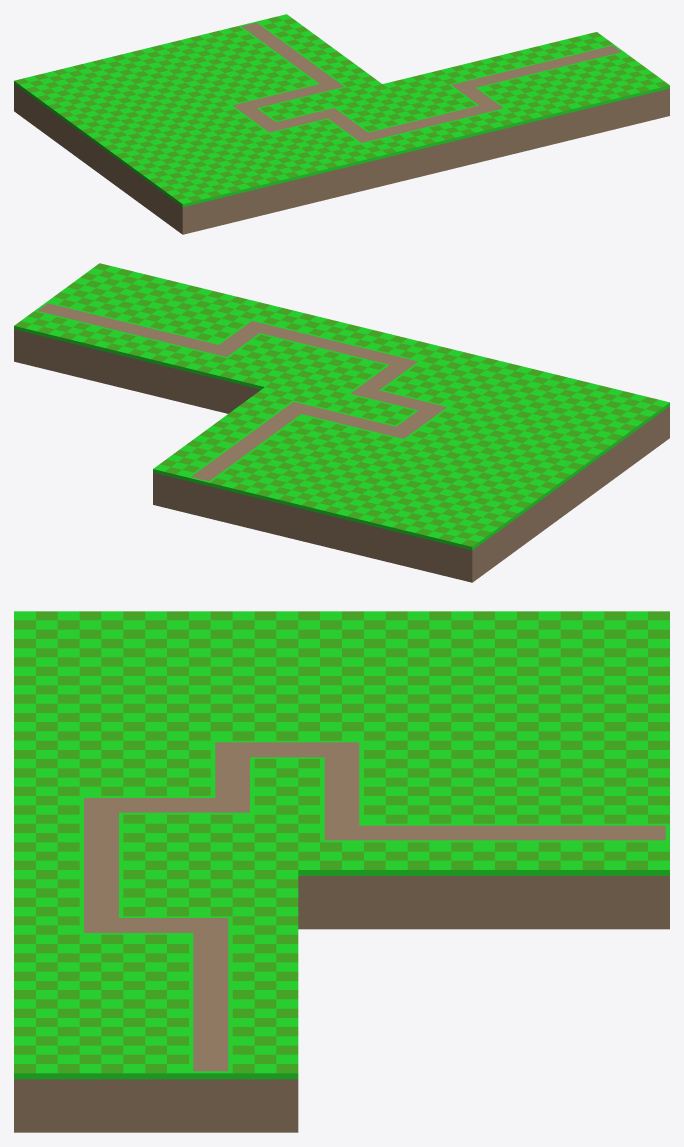
Rendered from Map 02 - 2.fbx.
The picture shows the model from 3 angles, top to bottom: view 1: azimuth 30°, elevation 25°; view 2: azimuth 150°, elevation 25°; view 3: azimuth 270°, elevation 25°; orthographic projection. The views are drawn at different scales.
Visible parts, largest first — view 1: Plane.014; view 2: Plane.014; view 3: Plane.014.
Boxes of the visible parts, x1,y1,x2,y2 form: Plane.014: [14, 14, 669, 234]; Plane.014: [14, 263, 669, 582]; Plane.014: [14, 611, 669, 1132].
Size of the model in its own units: 500 by 30 by 300.
